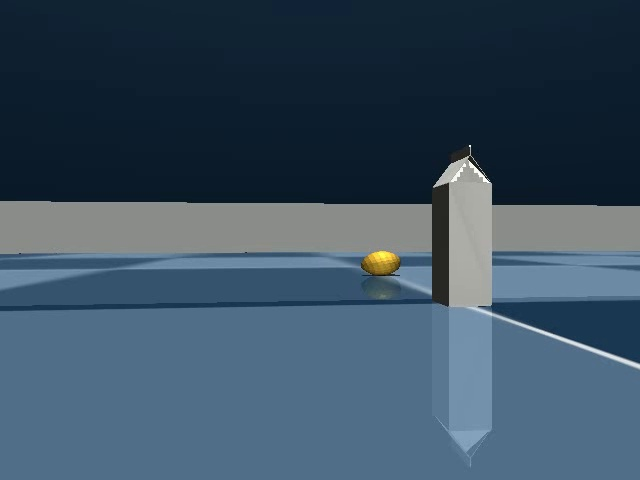lemon: (355, 245, 404, 280)
milk: (427, 137, 497, 313)
